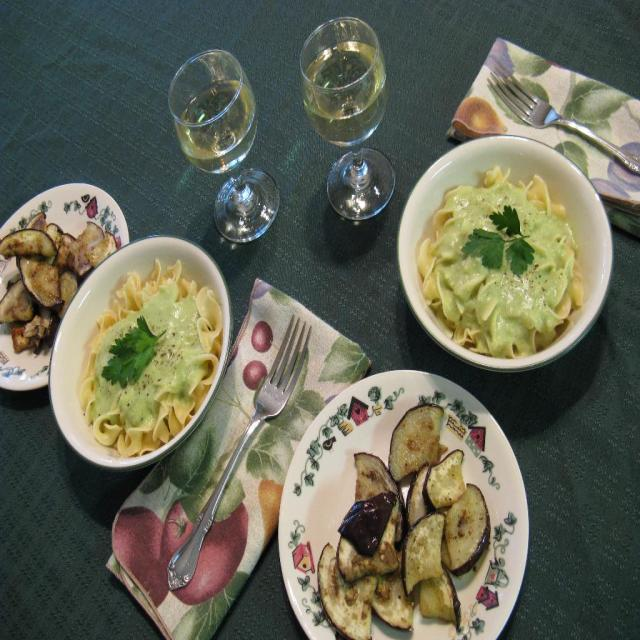non-organic waste: (288, 351, 528, 640), (386, 135, 605, 388), (3, 162, 155, 458), (65, 247, 222, 493)
